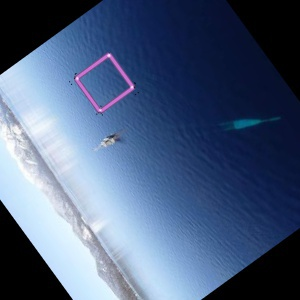square: (72, 51, 137, 114)
